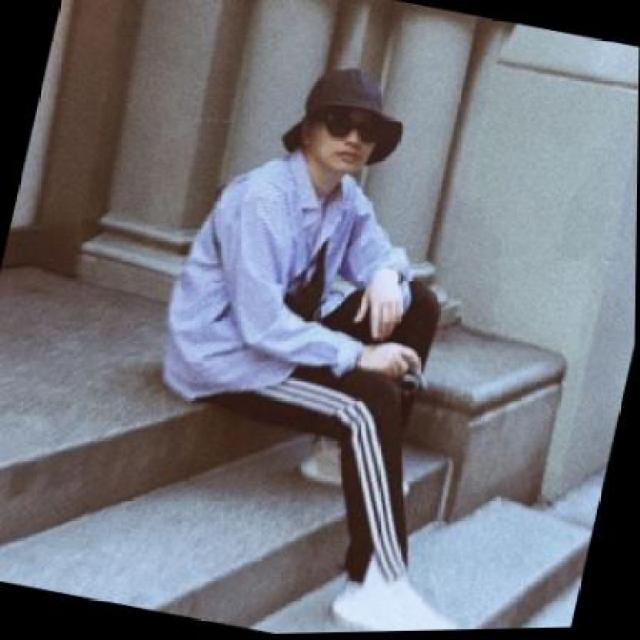hat: (276, 54, 415, 180)
